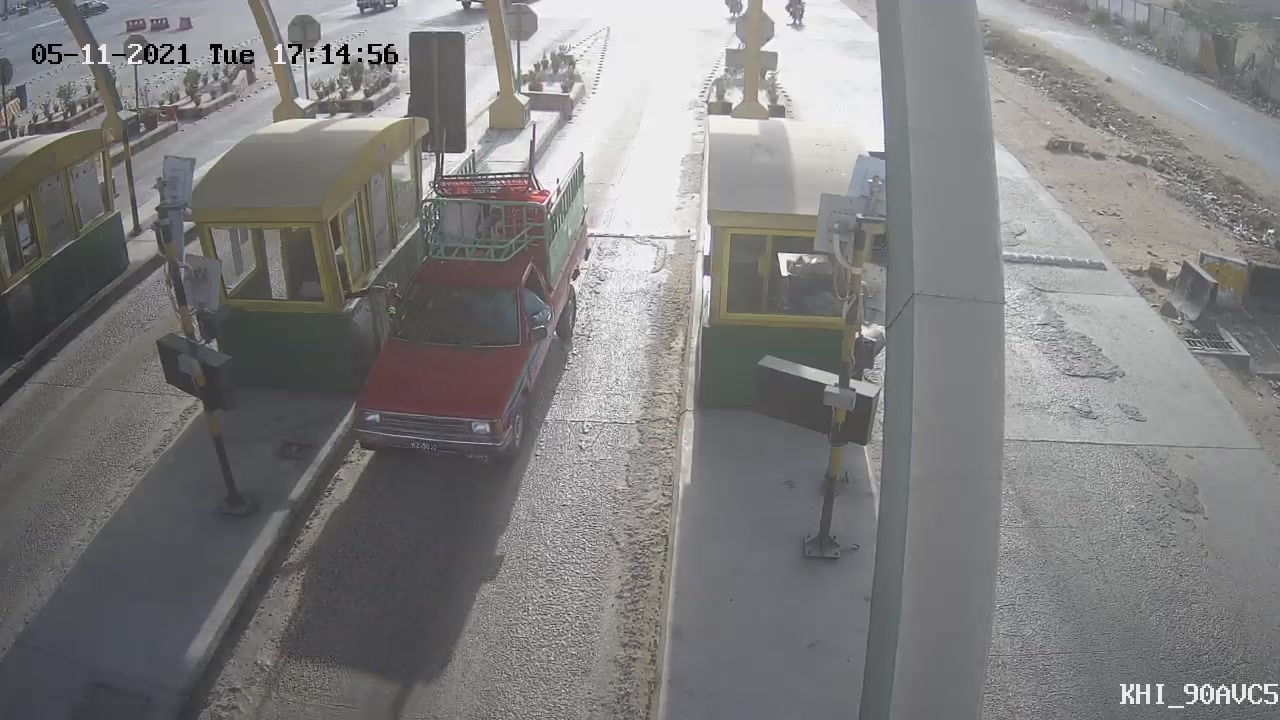F1: (312, 120, 613, 499)
